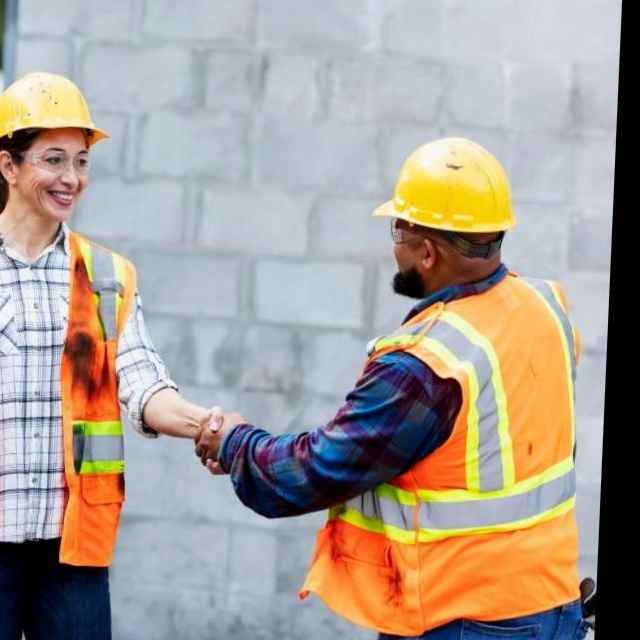Con_Casco: (368, 132, 520, 299), (0, 70, 112, 220)
Con_Chaleco: (336, 278, 591, 625), (0, 213, 137, 574)
